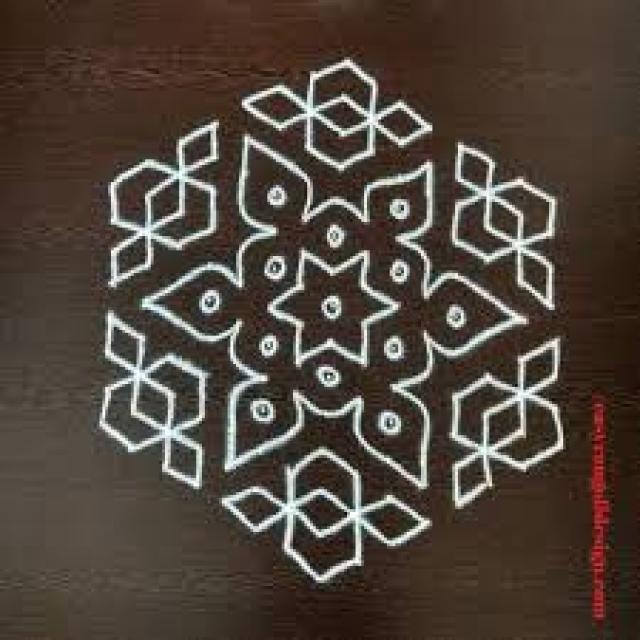rangoli: (100, 58, 565, 584)
